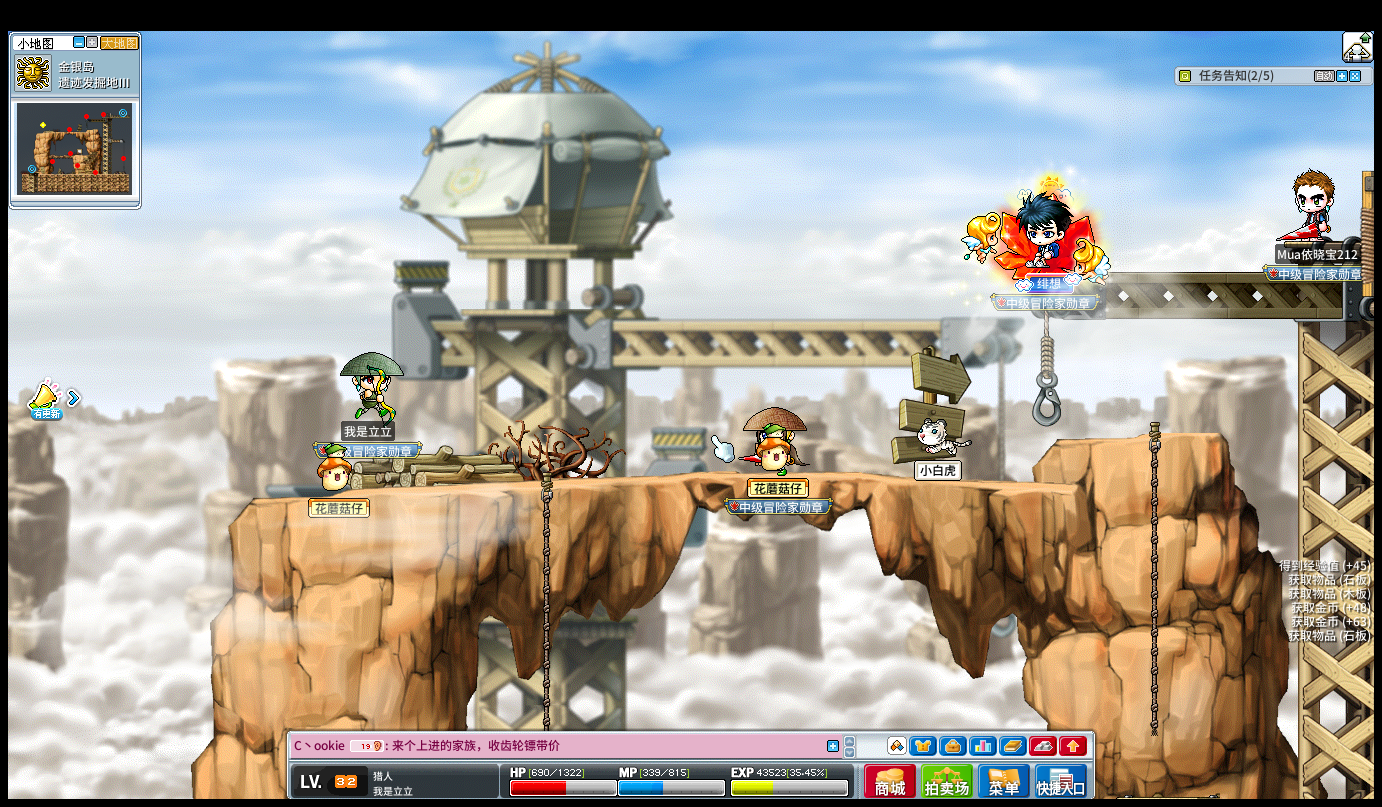floor: (259, 465, 1126, 494), (1055, 432, 1232, 447), (1054, 428, 1225, 443)
rope: (1145, 416, 1161, 736), (539, 468, 551, 741), (540, 471, 551, 676), (1040, 310, 1053, 422)
